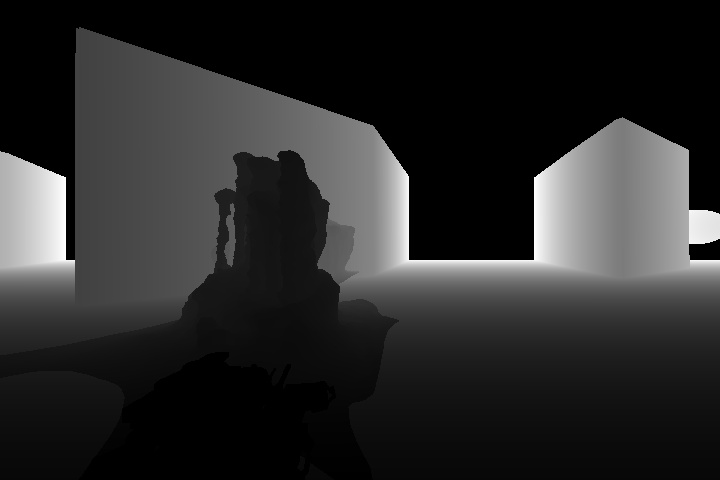green rock: (177, 148, 344, 337)
